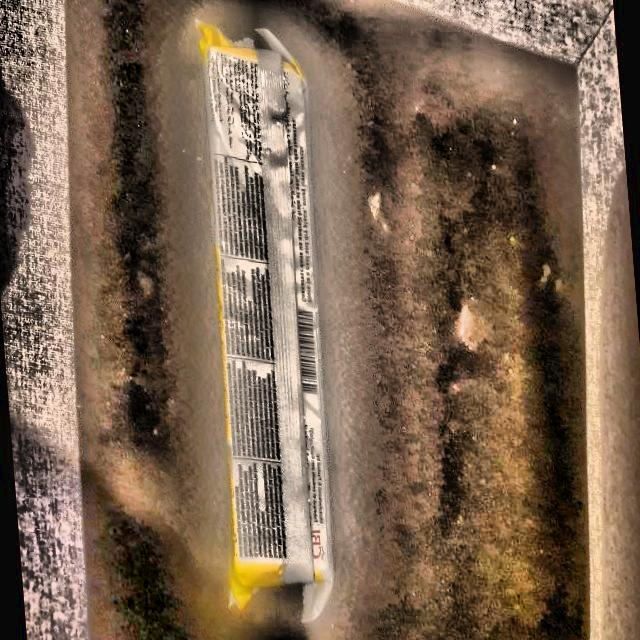lemon puff: (189, 26, 355, 613)
